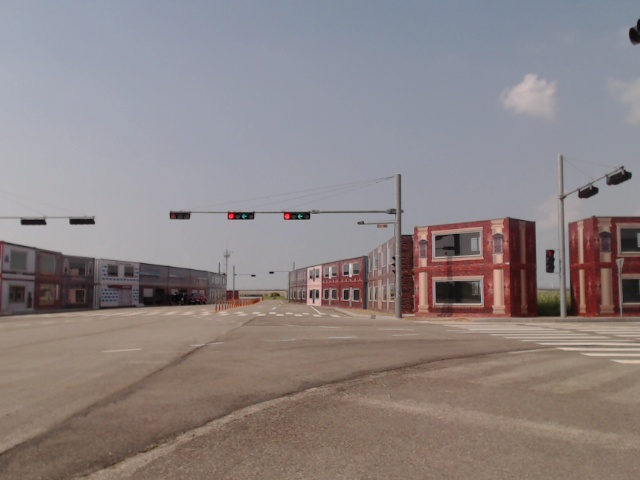left_green_4: (228, 212, 254, 219), (284, 213, 310, 220)
